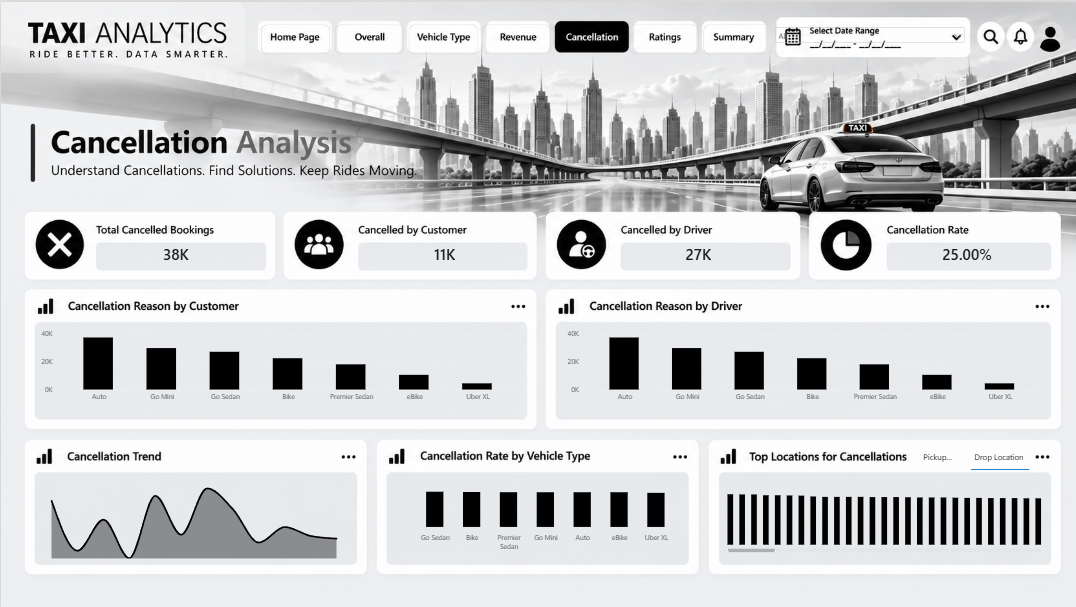

Layout of this report page (visuals, bound fields, positions):
{"tool":"powerbi","page":{"name":"Cancellation","canvas":[1920,1080],"ordinal":4},"visuals":[{"type":"pageNavigator","box":[462.2,40,911.1,53.3],"z":0},{"type":"slicer","fields":{"Values":["rideBookings.Date"]},"box":[1371.7,39.8,347.8,52.2],"z":1000},{"type":"cardVisual","fields":{"Data":["rideBookings.TotalCancelled"]},"box":[177.3,421.7,266.7,50],"z":2000},{"type":"cardVisual","fields":{"Data":["Sum(rideBookings.Cancelled Rides by Customer)"]},"box":[655.1,421.7,266.7,50],"z":3000},{"type":"cardVisual","fields":{"Data":["Sum(rideBookings.Cancelled Rides by Driver)"]},"box":[1107.5,421.7,266.7,50],"z":4000},{"type":"cardVisual","fields":{"Data":["rideBookings.CancelledPercentage"]},"box":[1585.3,421.7,266.7,50],"z":5000},{"type":"lineChart","fields":{"Category":["rideBookings.Date.Variation.Date Hierarchy.Month"],"Y":["rideBookings.TotalCancelled"]},"box":[56.1,825.2,575.5,181],"z":6000},{"type":"clusteredColumnChart","fields":{"Category":["rideBookings.Vehicle Type"],"Y":["CountNonNull(rideBookings.Reason for cancelling by Customer)"]},"box":[56.1,566.4,881.3,162.9],"z":7000},{"type":"clusteredColumnChart","fields":{"Category":["rideBookings.Vehicle Type"],"Y":["CountNonNull(rideBookings.Driver Cancellation Reason)"]},"box":[991.7,566.4,874.1,162.9],"z":8000},{"type":"columnChart","fields":{"Category":["rideBookings.Vehicle Type"],"Y":["rideBookings.CancelledPercentage"]},"box":[694.9,836.1,528.4,159.3],"z":9000},{"type":"columnChart","fields":{"Category":["rideBookings.Pickup Location"],"Y":["rideBookings.TotalCancelled"]},"box":[1275.8,834.3,589.9,161.1],"z":10000},{"type":"bookmarkNavigator","box":[1608.8,785.4,220.8,48.9],"z":11000}]}

Visuals, with their boxes on the page's 1920x1080 design canvas (x1, y1, x2, y2). These are canvas units, not pixel positions in the 1076x607 screenshot, which may show the page scaled, cropped or inside an application window:
pageNavigator: select_region(462, 40, 1373, 93)
slicer - rideBookings.Date: select_region(1372, 40, 1720, 92)
cardVisual - rideBookings.TotalCancelled: select_region(177, 422, 444, 472)
cardVisual - Sum(rideBookings.Cancelled Rides by Customer): select_region(655, 422, 922, 472)
cardVisual - Sum(rideBookings.Cancelled Rides by Driver): select_region(1108, 422, 1374, 472)
cardVisual - rideBookings.CancelledPercentage: select_region(1585, 422, 1852, 472)
lineChart - rideBookings.Date.Variation.Date Hierarchy.Month x rideBookings.TotalCancelled: select_region(56, 825, 632, 1006)
clusteredColumnChart - rideBookings.Vehicle Type x CountNonNull(rideBookings.Reason for cancelling by Customer): select_region(56, 566, 937, 729)
clusteredColumnChart - rideBookings.Vehicle Type x CountNonNull(rideBookings.Driver Cancellation Reason): select_region(992, 566, 1866, 729)
columnChart - rideBookings.Vehicle Type x rideBookings.CancelledPercentage: select_region(695, 836, 1223, 995)
columnChart - rideBookings.Pickup Location x rideBookings.TotalCancelled: select_region(1276, 834, 1866, 995)
bookmarkNavigator: select_region(1609, 785, 1830, 834)
